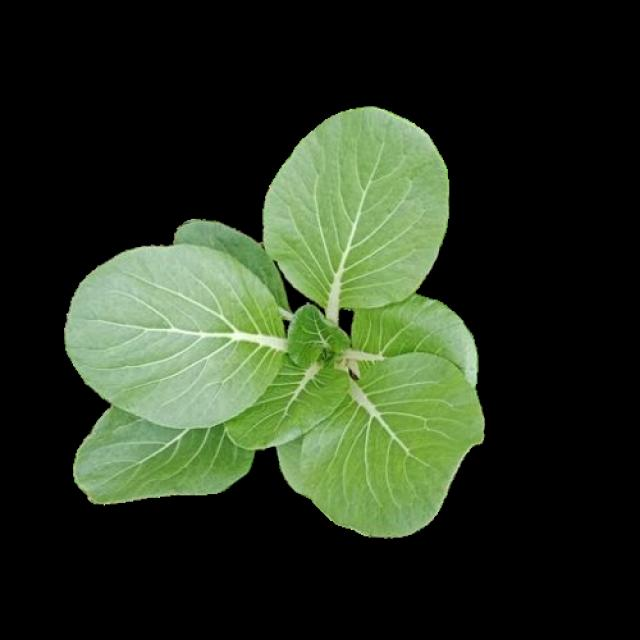healthy: (64, 102, 479, 534)
not-mature: (67, 105, 481, 536)
